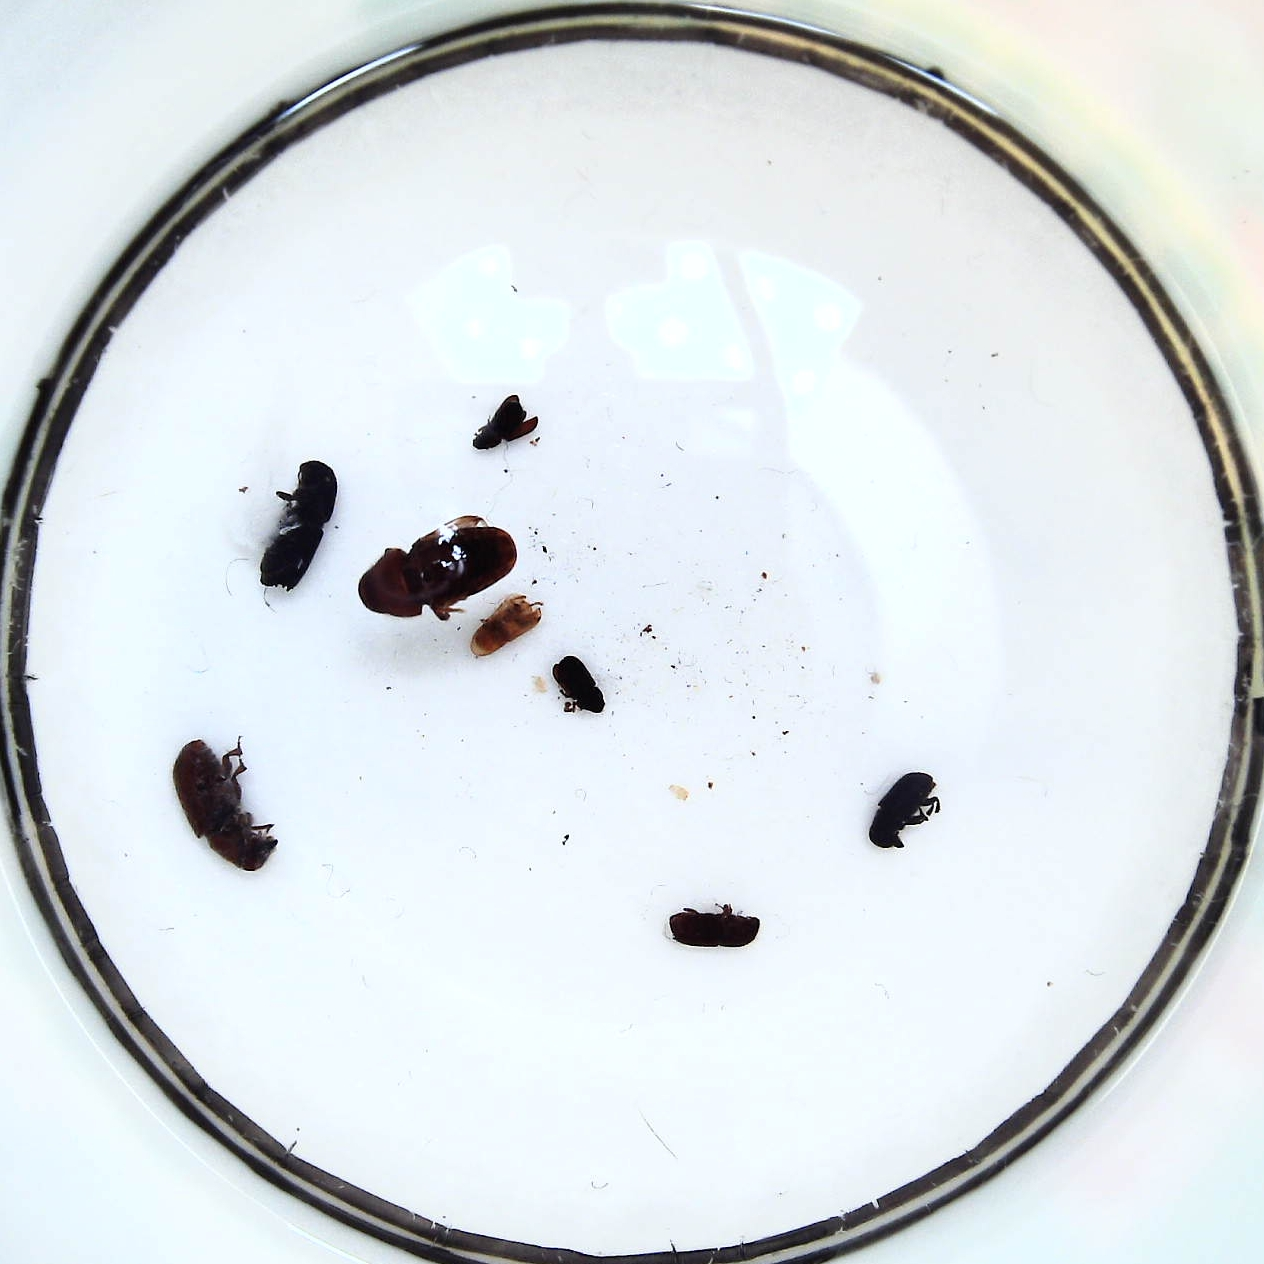Boerner: (260, 461, 337, 593)
Leconte: (358, 526, 517, 618), (172, 740, 278, 872)
acuminatus: (472, 395, 539, 451), (554, 655, 605, 715)
armandi: (869, 772, 935, 848)
coleoptera: (471, 593, 542, 656)
linnaeus: (669, 910, 760, 946)
